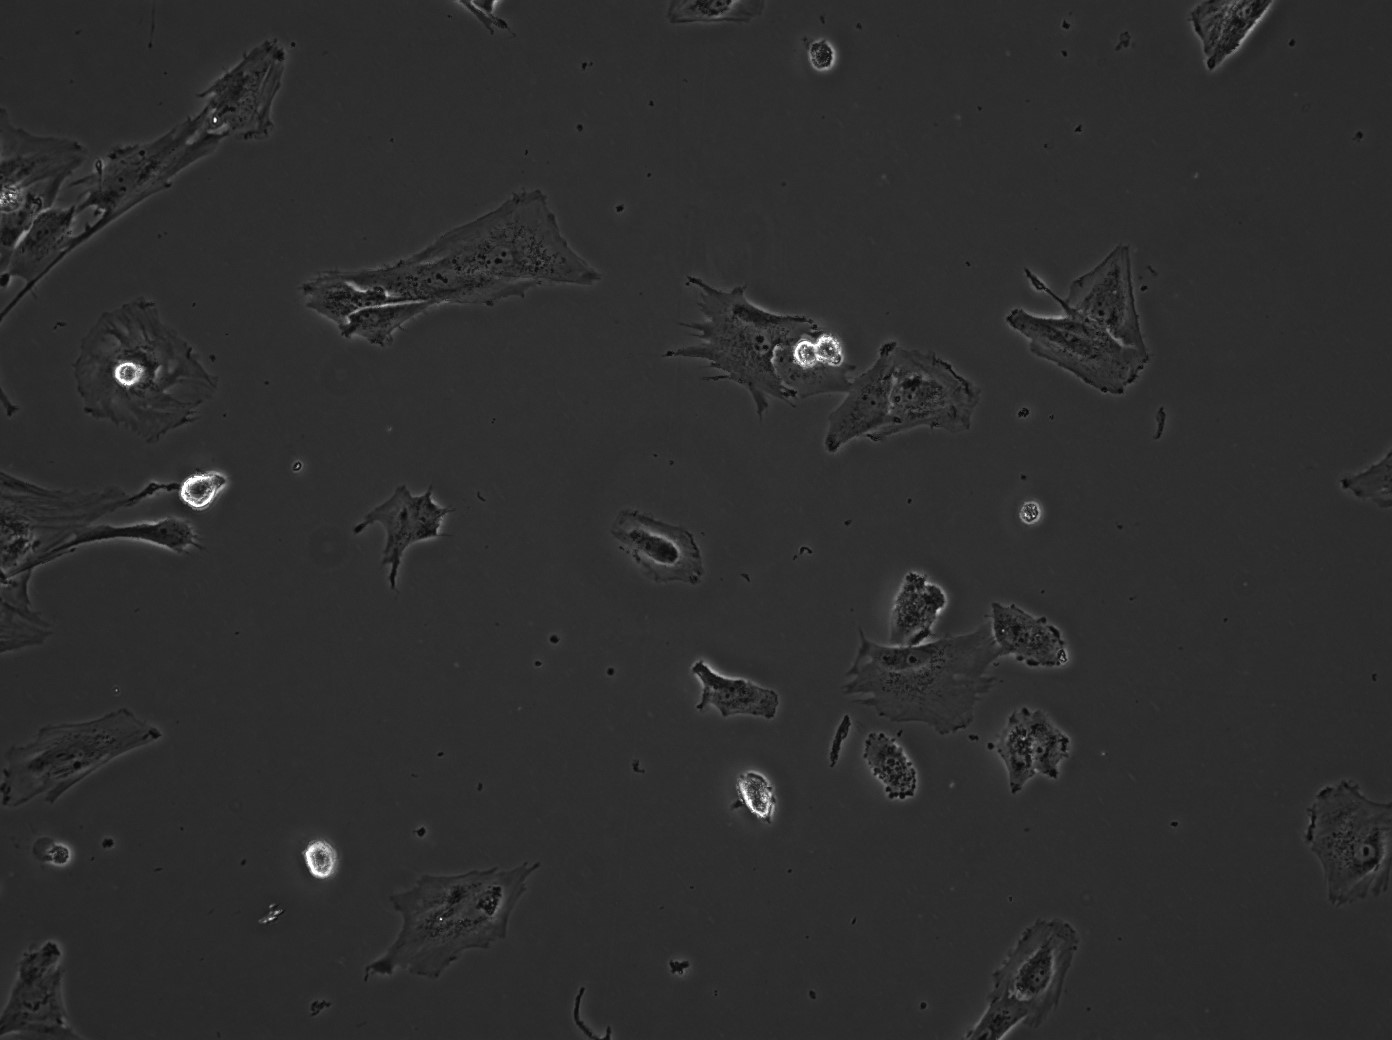0: (328, 185, 603, 303), (364, 856, 544, 989), (83, 104, 234, 247), (71, 295, 222, 435), (840, 619, 1018, 736), (1, 474, 194, 576), (680, 275, 816, 411), (1, 701, 162, 812), (825, 341, 976, 457), (191, 26, 312, 143), (1004, 306, 1151, 398), (969, 920, 1080, 1040), (1, 113, 82, 257), (1308, 777, 1392, 912), (295, 274, 441, 350), (353, 487, 448, 589), (1063, 243, 1151, 351), (607, 509, 705, 589), (990, 701, 1074, 791), (1, 204, 89, 289), (768, 334, 857, 403), (986, 600, 1075, 667), (1190, 1, 1273, 70), (691, 660, 779, 722), (1, 566, 60, 657), (889, 564, 951, 645), (858, 728, 918, 797), (662, 1, 768, 28), (1342, 453, 1392, 510)
w: (1, 942, 69, 1038)
